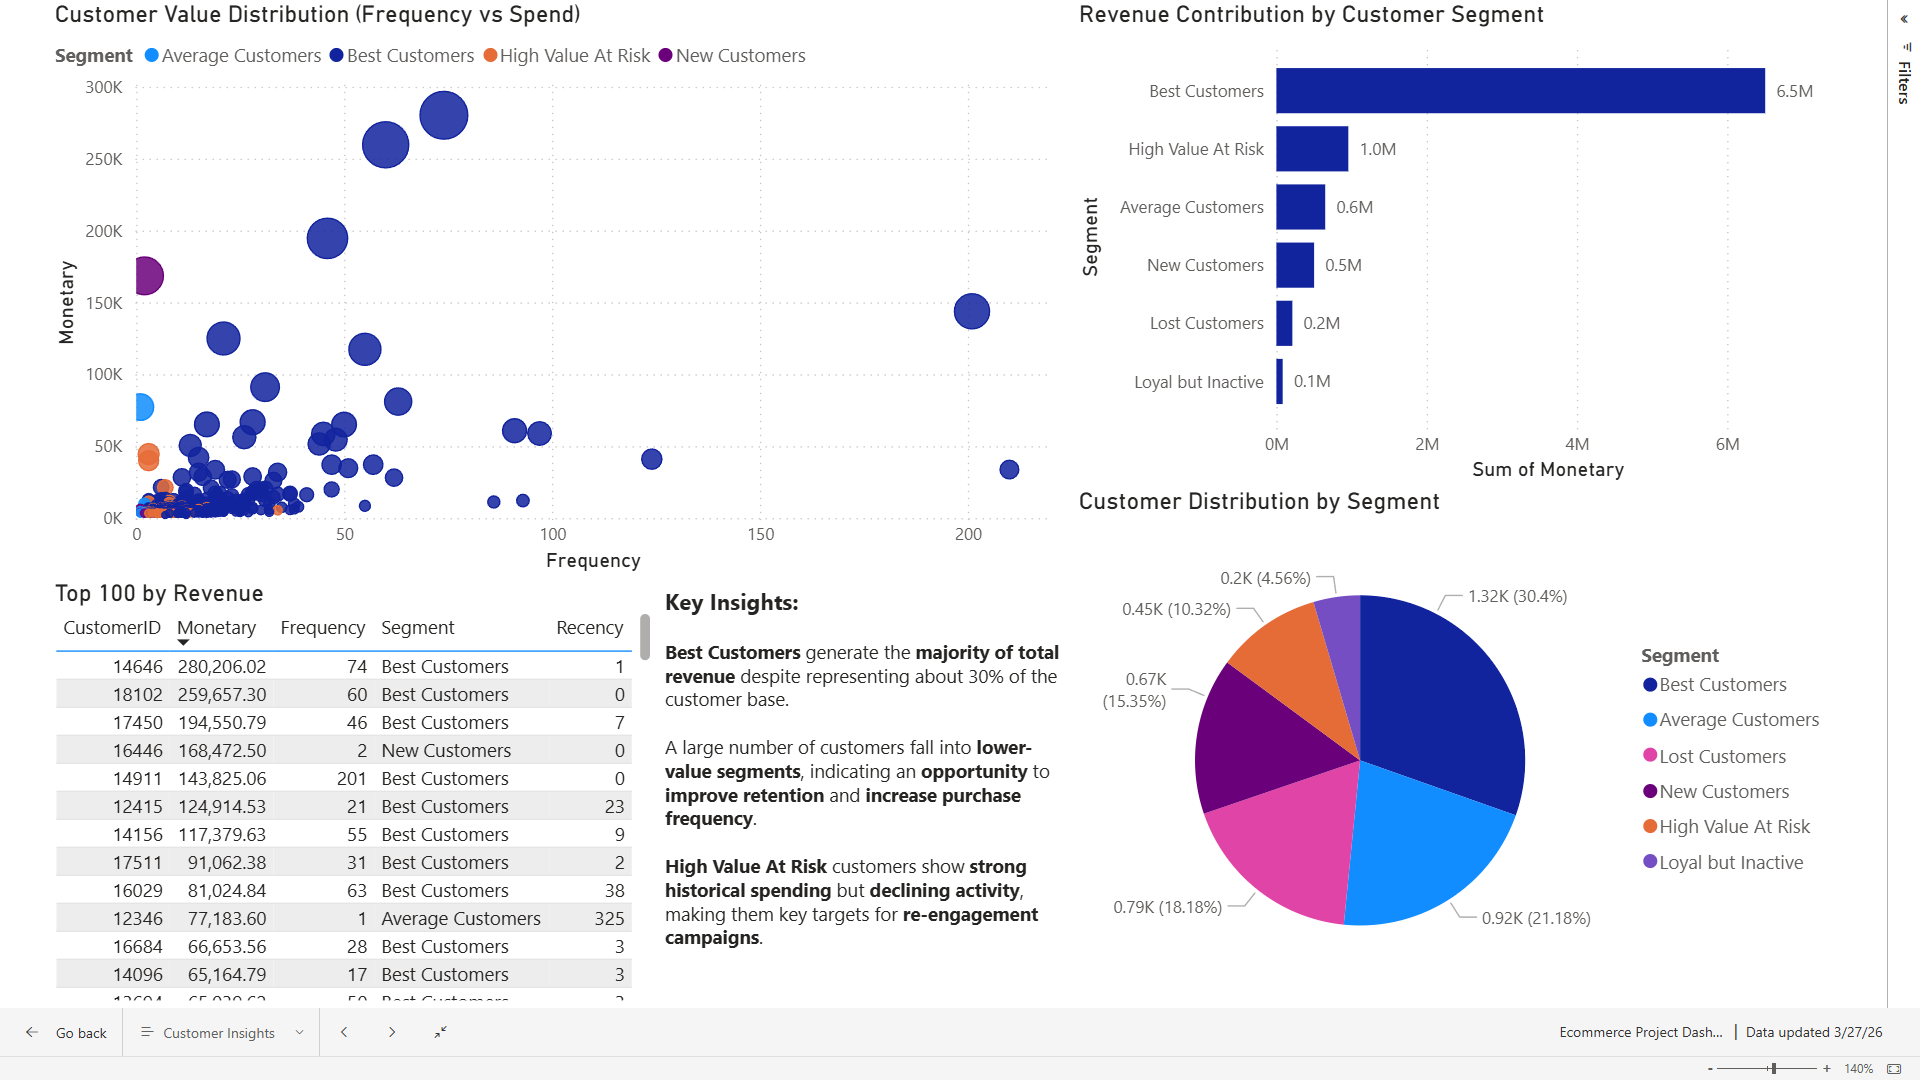

This screenshot's page, from the dashboard's own definition file:
{"tool":"powerbi","page":{"name":"Customer Insights","canvas":[1280,720],"ordinal":1},"visuals":[{"type":"pieChart","title":"Customer Distribution by Segment","fields":{"Category":["customer_summary.Segment"],"Y":["Count(customer_summary.CustomerID)"]},"box":[731.4,348.2,548.6,371.6],"z":0},{"type":"barChart","title":"Revenue Contribution by Customer Segment","fields":{"Category":["customer_summary.Segment"],"Y":["Sum(customer_summary.Monetary)"]},"box":[731.4,0,548.6,348.2],"z":1000},{"type":"scatterChart","title":"Customer Value Distribution (Frequency vs Spend)","fields":{"Series":["customer_summary.Segment"],"Y":["customer_summary.Monetary"],"X":["customer_summary.Frequency"],"Size":["Sum(customer_summary.Monetary)"]},"box":[0,0,731.4,413.4],"z":2000},{"type":"tableEx","title":"Top 100 by Revenue","fields":{"Values":["customer_summary.CustomerID","customer_summary.Monetary","customer_summary.Frequency","customer_summary.Segment","customer_summary.Recency"]},"box":[0,413.4,435.7,306.4],"z":3000},{"type":"textbox","box":[435.7,413.4,295.7,305.4],"z":4000}]}

Visuals, with their boxes on the page's 1280x720 design canvas (x1, y1, x2, y2). These are canvas units, not pixel positions in the 1920x1080 screenshot, which may show the page scaled, cropped or inside an application window:
"Customer Distribution by Segment" pieChart: 731, 348, 1280, 720
"Revenue Contribution by Customer Segment" barChart: 731, 0, 1280, 348
"Customer Value Distribution (Frequency vs Spend)" scatterChart: 0, 0, 731, 413
"Top 100 by Revenue" tableEx: 0, 413, 436, 720
textbox: 436, 413, 731, 719
